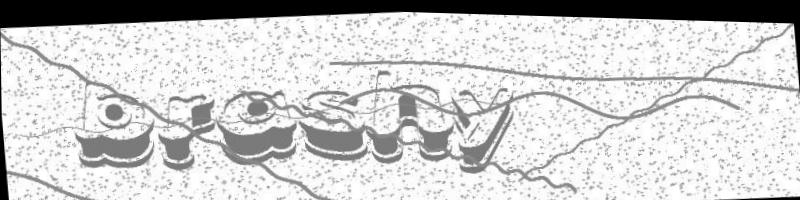a: (213, 83, 301, 168)
b: (66, 75, 156, 171)
h: (365, 62, 456, 163)
r: (152, 89, 221, 172)
s: (295, 82, 371, 165)
y: (449, 79, 520, 177)
